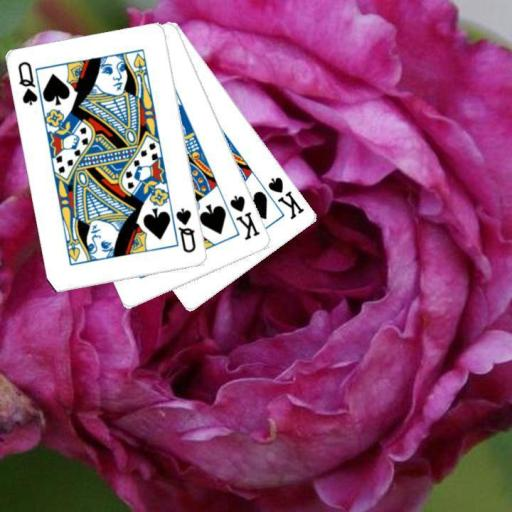card-corner: (264, 174, 306, 221), (227, 192, 262, 242), (172, 204, 198, 254), (15, 58, 40, 108)
